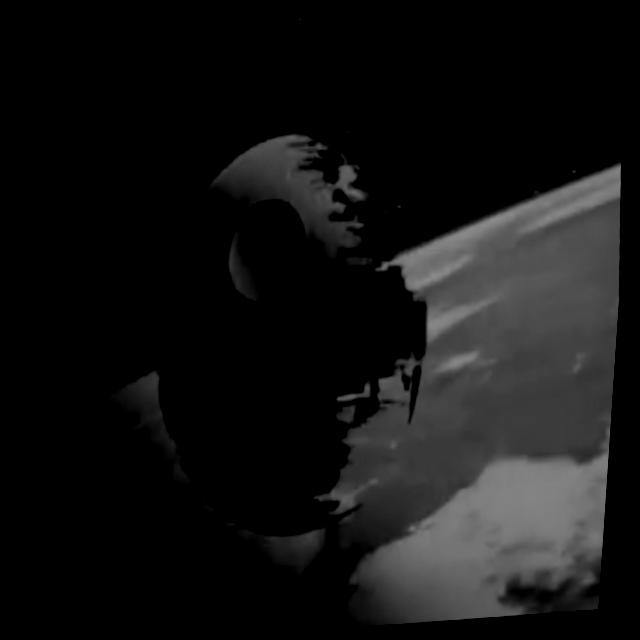death-stars: (167, 134, 434, 540)
